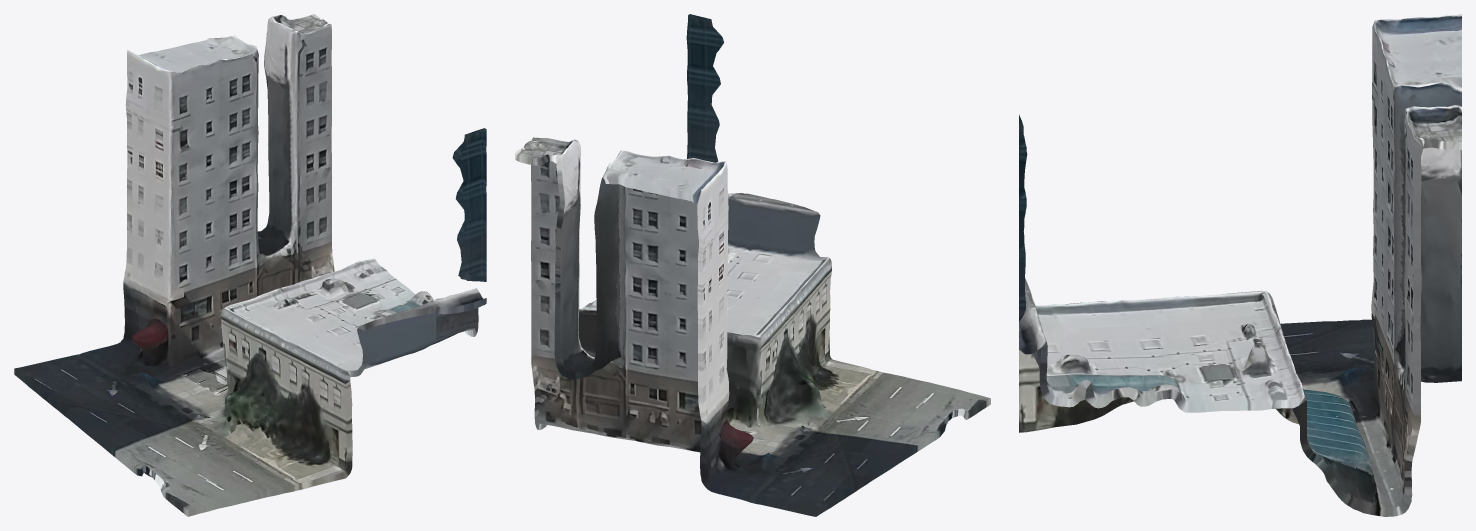
Rendered from z20-167761-405237-h0-yup-uvflip-v3-world.glb.
The picture shows the model from 3 angles, left to right: view 1: azimuth 30°, elevation 25°; view 2: azimuth 150°, elevation 25°; view 3: azimuth 270°, elevation 25°; orthographic projection. The views are drawn at different scales.
Size of the model in its own units: 30.16 by 30.4 by 30.32.
Materials: 1 (1 with a texture image).
